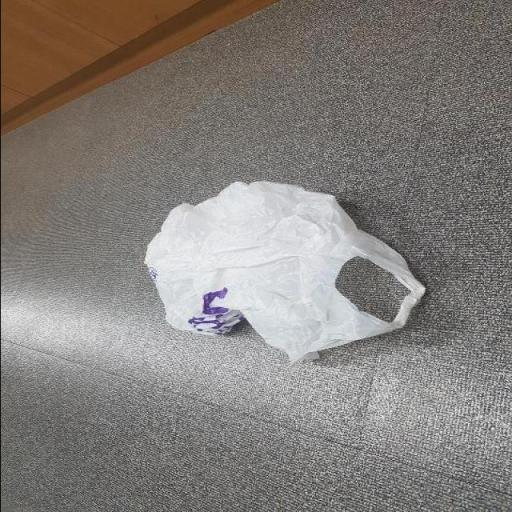plastic-bag: (138, 177, 428, 364)
